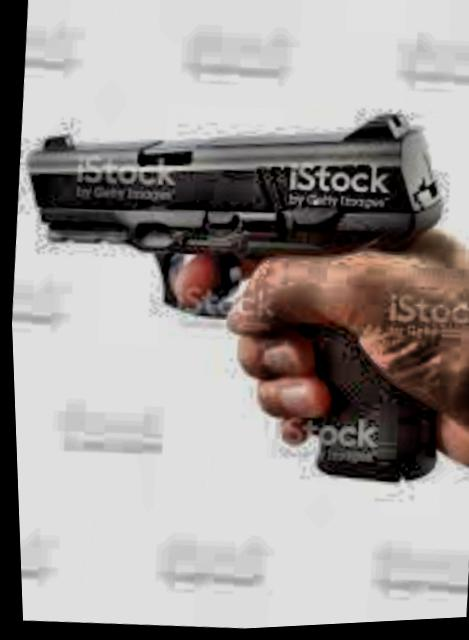pistol: (3, 77, 460, 502)
